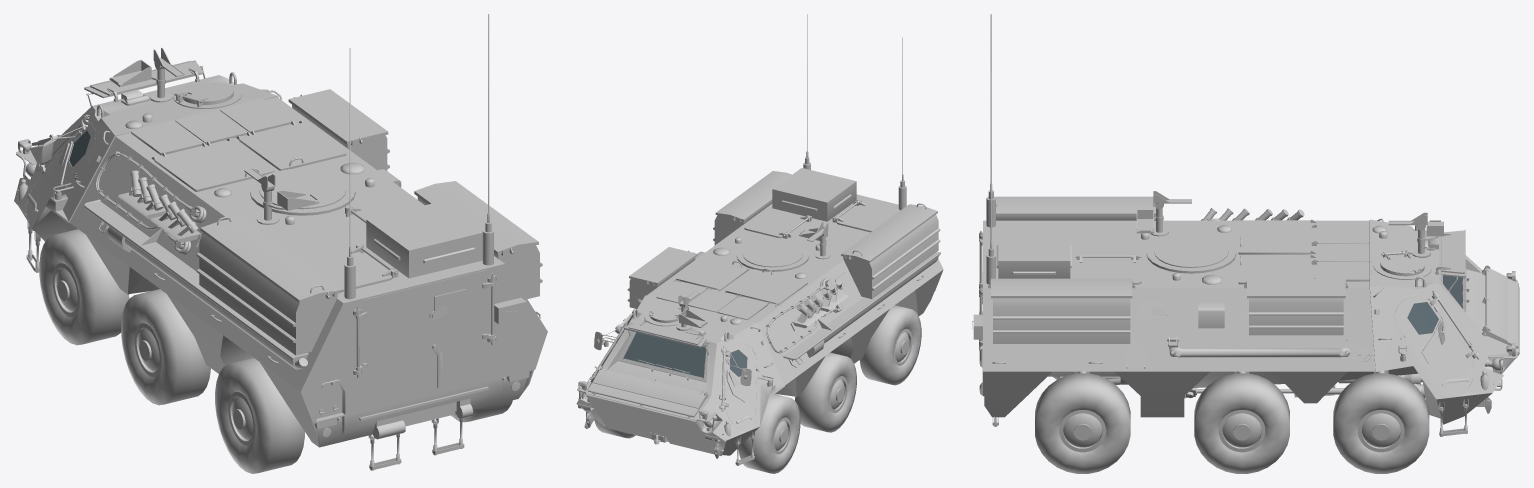
The model's file is VAB_lod0.FBX.
3 views of the same model, side by side, from view 1: azimuth 30°, elevation 25°; view 2: azimuth 150°, elevation 25°; view 3: azimuth 270°, elevation 25° (orthographic). The views are drawn at different scales.
Parts seen in each view (by area): view 1: VAB_BODY, VAB_WHEEL_L3, VAB_WHEEL_L1, VAB_WHEEL_L2, VAB_DOOR_LB, VAB_DOOR_RB, VAB_DOOR_TOP4, VAB_DOOR_TOP5, Cylinder1097, VAB_DOOR_TOP7, VAB_DOOR_TOP1, VAB_DOOR_TOP3 (+2 smaller); view 2: VAB_BODY, VAB_WHEEL_L3, VAB_WHEEL_L2, VAB_WHEEL_L1, Cylinder1097, VAB_DOOR_TOP4, VAB_DOOR_TOP5, VAB_DOOR_TOP6, VAB_DOOR_TOP7, VAB_DOOR_TOP1, VAB_DOOR_TOP2, VAB_DOOR_TOP3; view 3: VAB_BODY, VAB_WHEEL_R1, VAB_WHEEL_R3, VAB_WHEEL_R2, Cylinder1098, VAB_DOOR_TOP4, VAB_DOOR_TOP5, VAB_DOOR_TOP6, VAB_DOOR_TOP3, VAB_DOOR_TOP2, VAB_DOOR_TOP1, Cylinder697 (+1 smaller).
Part boxes in pixels (x1=…): VAB_BODY: x1=14, y1=14, x2=547, y2=470; VAB_WHEEL_L3: x1=215, y1=357, x2=304, y2=473; VAB_WHEEL_L1: x1=39, y1=229, x2=129, y2=345; VAB_WHEEL_L2: x1=121, y1=289, x2=210, y2=405; VAB_DOOR_LB: x1=355, y1=285, x2=424, y2=411; VAB_DOOR_RB: x1=424, y1=270, x2=495, y2=396; VAB_DOOR_TOP4: x1=154, y1=140, x2=274, y2=191; VAB_DOOR_TOP5: x1=239, y1=122, x2=346, y2=170; Cylinder1097: x1=26, y1=119, x2=95, y2=221; VAB_DOOR_TOP7: x1=302, y1=245, x2=394, y2=292; VAB_DOOR_TOP1: x1=131, y1=120, x2=203, y2=155; VAB_DOOR_TOP3: x1=220, y1=99, x2=292, y2=133; VAB_BODY: x1=576, y1=14, x2=943, y2=465; VAB_WHEEL_L3: x1=859, y1=305, x2=921, y2=385; VAB_WHEEL_L2: x1=795, y1=352, x2=856, y2=432; VAB_WHEEL_L1: x1=738, y1=394, x2=800, y2=473; Cylinder1097: x1=721, y1=343, x2=757, y2=430; VAB_DOOR_TOP4: x1=725, y1=268, x2=807, y2=304; VAB_DOOR_TOP5: x1=676, y1=257, x2=749, y2=290; VAB_DOOR_TOP6: x1=744, y1=208, x2=809, y2=238; VAB_DOOR_TOP7: x1=835, y1=200, x2=898, y2=232; VAB_DOOR_TOP1: x1=717, y1=296, x2=767, y2=320; VAB_DOOR_TOP2: x1=688, y1=289, x2=737, y2=312; VAB_DOOR_TOP3: x1=656, y1=281, x2=706, y2=303; VAB_BODY: x1=972, y1=14, x2=1519, y2=436; VAB_WHEEL_R1: x1=1333, y1=373, x2=1429, y2=473; VAB_WHEEL_R3: x1=1035, y1=373, x2=1130, y2=473; VAB_WHEEL_R2: x1=1194, y1=373, x2=1289, y2=473; Cylinder1098: x1=1394, y1=294, x2=1476, y2=396; VAB_DOOR_TOP4: x1=1238, y1=220, x2=1310, y2=254; VAB_DOOR_TOP5: x1=1238, y1=255, x2=1310, y2=284; VAB_DOOR_TOP6: x1=1074, y1=255, x2=1141, y2=284; VAB_DOOR_TOP3: x1=1317, y1=261, x2=1369, y2=281; VAB_DOOR_TOP2: x1=1317, y1=243, x2=1369, y2=261; VAB_DOOR_TOP1: x1=1317, y1=225, x2=1369, y2=243; Cylinder697: x1=1060, y1=370, x2=1425, y2=398.
Bounding box in the file's own units: 13.1 × 22.06 × 28.78.
